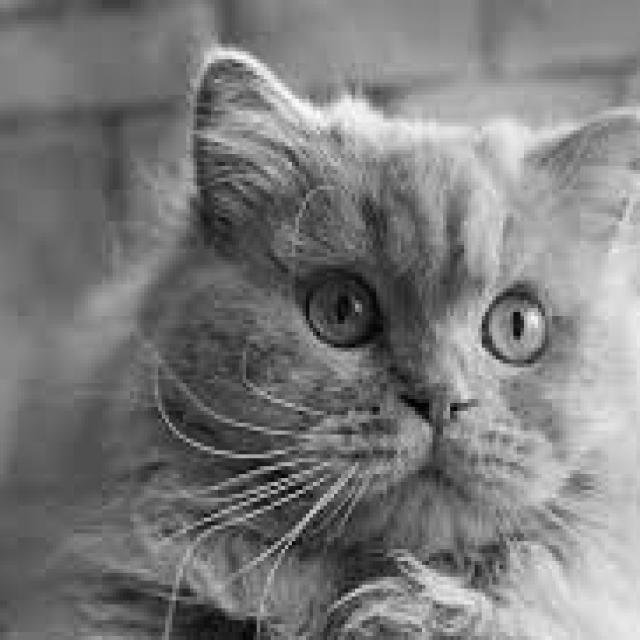british: (158, 36, 640, 549)
